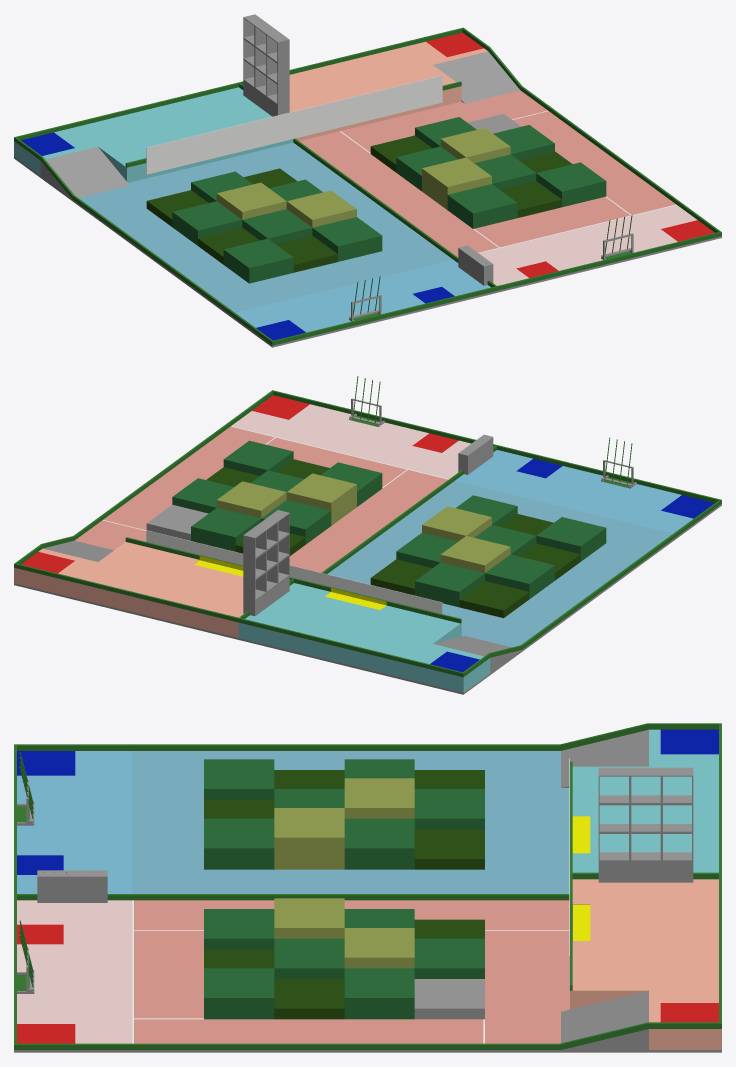
File: game_field.dae
3 renders of one model, top to bottom at view 1: azimuth 30°, elevation 25°; view 2: azimuth 150°, elevation 25°; view 3: azimuth 270°, elevation 25°, orthographic. The views are drawn at different scales.
Parts seen in each view (by area): view 1: Component3 (×4), Component3(Mirror) (×4), Component2 (×2), Component6(Mirror) (×6), Component36, Component6 (×6), Component11(Mirror), Component21, Component11, Component5(Mirror) (×4), Component20, Component7 (×2) (+10 smaller); view 2: Component2 (×2), Component3(Mirror) (×4), Component11(Mirror), Component3 (×4), Component11, Component36, Component6(Mirror) (×6), Component6 (×6), Component5(Mirror) (×4), Component20, Component7 (×2), Component7(Mirror) (×2) (+11 smaller); view 3: Component3(Mirror) (×4), Component3 (×4), Component2 (×2), Component11, Component6 (×6), Component36, Component6(Mirror) (×6), Component11(Mirror), Component5 (×4), Component7(Mirror) (×2), Component5(Mirror) (×4), Component20 (+13 smaller).
Boxes of the visible parts, box(x1,y1,x2,y2) form: Component3 (×4): box(299, 90, 675, 257); Component3(Mirror) (×4): box(79, 142, 451, 312); Component2 (×2): box(235, 205, 696, 332); Component6(Mirror) (×6): box(172, 171, 382, 283); Component36: box(14, 27, 721, 345); Component6 (×6): box(396, 117, 606, 228); Component11(Mirror): box(14, 87, 293, 182); Component21: box(146, 75, 442, 174); Component11: box(289, 41, 487, 140); Component5(Mirror) (×4): box(146, 168, 337, 272); Component20: box(243, 14, 289, 116); Component7 (×2): box(422, 128, 510, 209); Component2 (×2): box(231, 404, 693, 533); Component3(Mirror) (×4): box(327, 481, 671, 647); Component11(Mirror): box(238, 583, 490, 692); Component3 (×4): box(75, 426, 447, 572); Component11: box(14, 542, 243, 637); Component36: box(14, 390, 721, 677); Component6(Mirror) (×6): box(396, 495, 606, 607); Component6 (×6): box(172, 440, 382, 551); Component5(Mirror) (×4): box(370, 514, 580, 618); Component20: box(243, 510, 289, 616); Component7 (×2): box(216, 473, 356, 525); Component7(Mirror) (×2): box(422, 506, 510, 572); Component3(Mirror) (×4): box(134, 751, 569, 893); Component3 (×4): box(134, 900, 569, 1043); Component2 (×2): box(17, 751, 132, 1043); Component11: box(570, 879, 721, 1049); Component6 (×6): box(204, 909, 484, 1019); Component36: box(14, 723, 721, 1049); Component6(Mirror) (×6): box(204, 759, 484, 869); Component11(Mirror): box(572, 729, 718, 872); Component5 (×4): box(204, 919, 484, 1019); Component7(Mirror) (×2): box(274, 778, 414, 869); Component5(Mirror) (×4): box(204, 770, 484, 869); Component20: box(598, 767, 693, 882).
Bounding box in the file's own units: 12.15 × 12.1 × 2.47.
